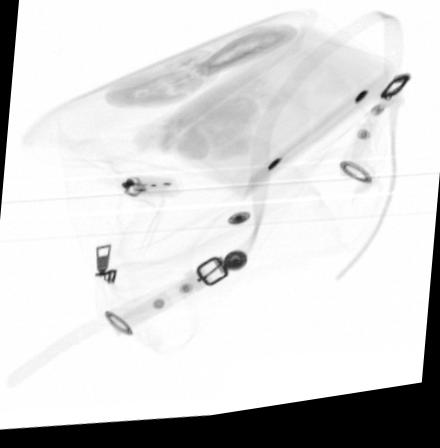Lighter: (119, 179, 183, 205)
